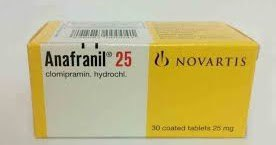Medicine: (26, 18, 261, 141)
